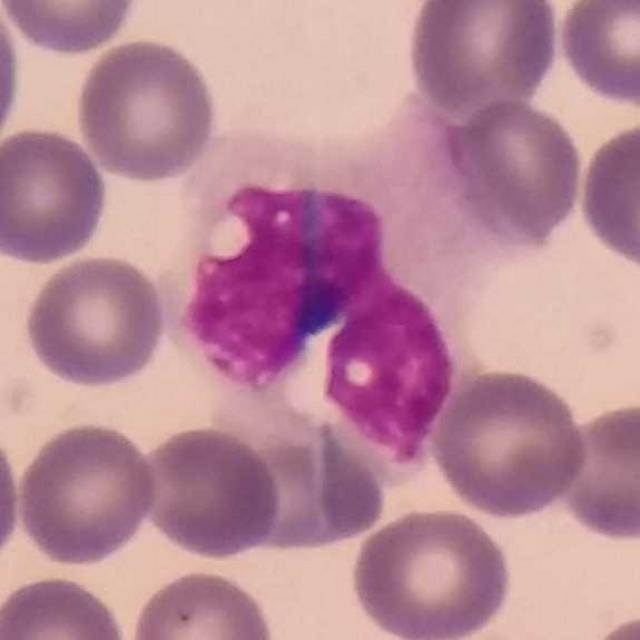mono: (173, 82, 513, 494)
